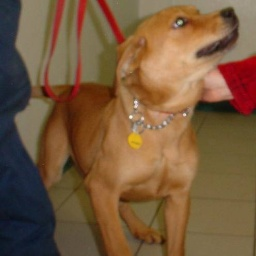dog: (39, 6, 241, 256)
